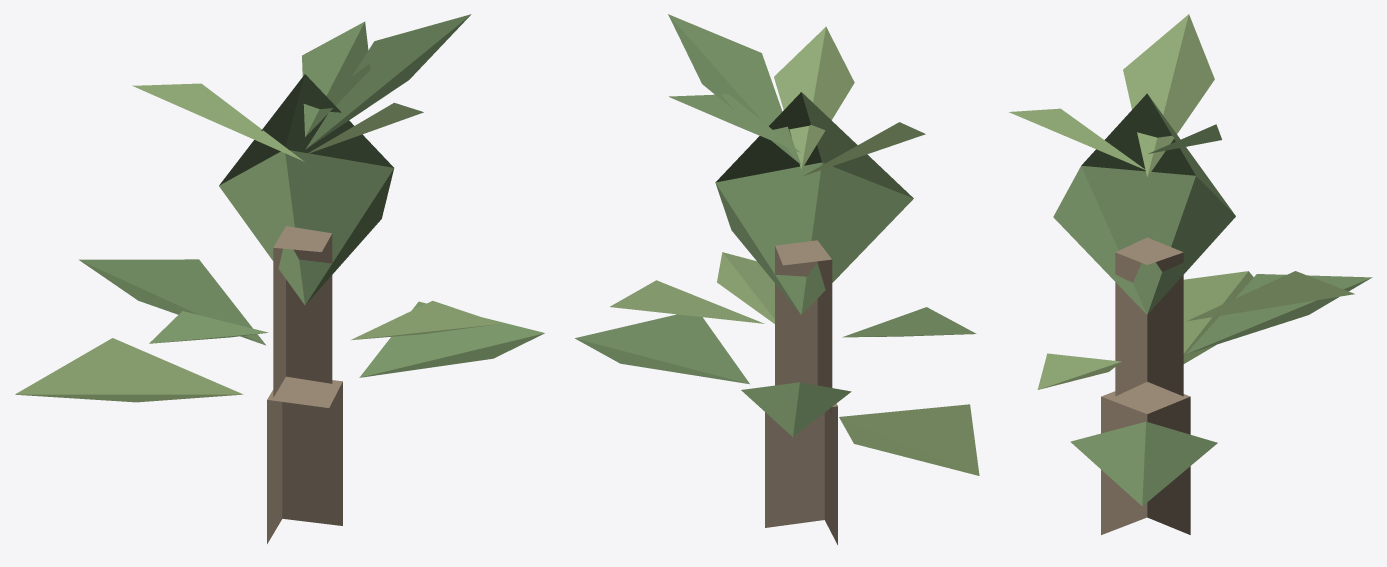
File: guan.zhen@seedling__summer.glb
3 renders of one model, left to right at view 1: azimuth 30°, elevation 25°; view 2: azimuth 150°, elevation 25°; view 3: azimuth 270°, elevation 25°, orthographic. The views are drawn at different scales.
Parts seen in each view (by area): view 1: guan.zhen@seedling__summer; view 2: guan.zhen@seedling__summer; view 3: guan.zhen@seedling__summer.
Part boxes in pixels (box(x1,y1,x2,y2)): guan.zhen@seedling__summer: box(15, 14, 544, 543); guan.zhen@seedling__summer: box(575, 14, 979, 544); guan.zhen@seedling__summer: box(1009, 14, 1372, 534).
Size of the model in its own units: 0.1933 by 0.1921 by 0.1339.
